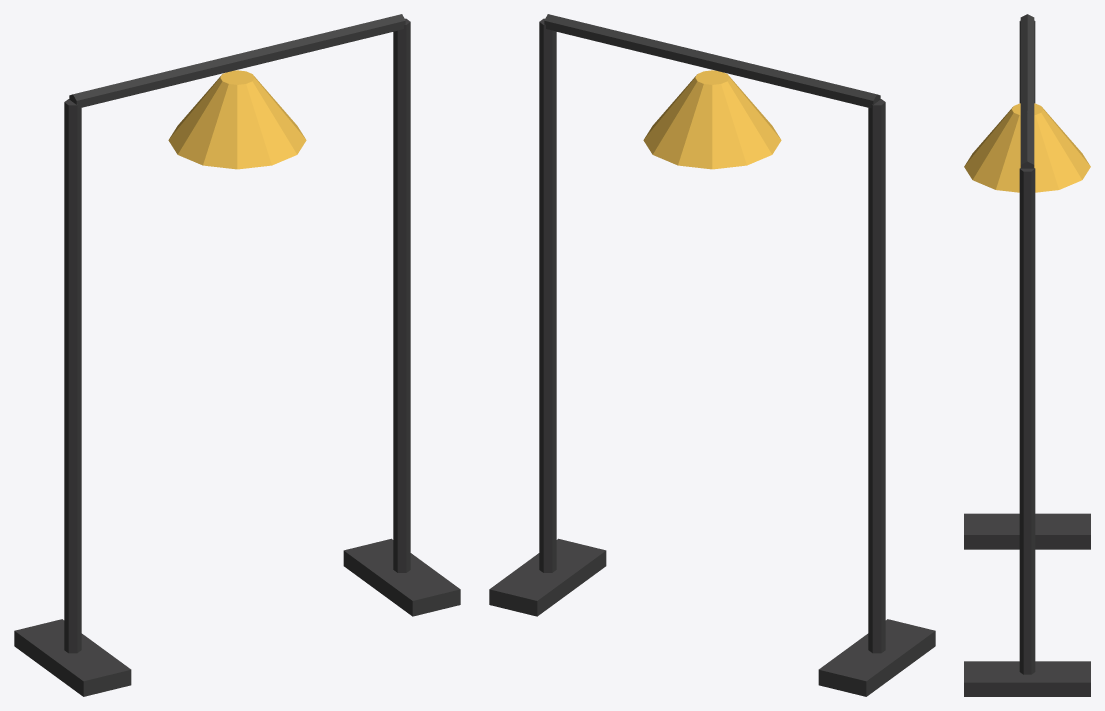
3 renders of one model, left to right at view 1: azimuth 30°, elevation 25°; view 2: azimuth 150°, elevation 25°; view 3: azimuth 270°, elevation 25°, orthographic. The views are drawn at different scales.
Visible parts, largest first — view 1: Overhead upright, Overhead upright.001, Pendant shade, Light beam, Light foot, Light foot.001; view 2: Overhead upright, Overhead upright.001, Pendant shade, Light beam, Light foot, Light foot.001; view 3: Overhead upright.001, Pendant shade, Light foot.001, Light foot, Light beam, Overhead upright.
Boxes of the visible parts, left/top/right/bottom form: Overhead upright: left=64, top=99, right=81, bottom=653; Overhead upright.001: left=393, top=18, right=410, bottom=572; Pendant shade: left=168, top=70, right=306, bottom=169; Light beam: left=69, top=14, right=405, bottom=108; Light foot: left=14, top=619, right=131, bottom=696; Light foot.001: left=343, top=538, right=460, bottom=616; Overhead upright: left=868, top=99, right=885, bottom=653; Overhead upright.001: left=539, top=18, right=556, bottom=572; Pendant shade: left=643, top=70, right=781, bottom=169; Light beam: left=544, top=14, right=880, bottom=108; Light foot: left=818, top=619, right=935, bottom=696; Light foot.001: left=489, top=538, right=606, bottom=616; Overhead upright.001: left=1019, top=168, right=1035, bottom=674; Pendant shade: left=964, top=103, right=1090, bottom=192; Light foot.001: left=964, top=661, right=1090, bottom=696; Light foot: left=964, top=513, right=1090, bottom=549; Light beam: left=1020, top=14, right=1034, bottom=168; Overhead upright: left=1019, top=20, right=1035, bottom=103.
Bounding box in the file's own units: 126 × 183 × 40.
